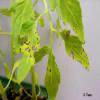Tomato leaf bacterial spot: (15, 19, 42, 85), (56, 27, 89, 72), (44, 49, 61, 99)
